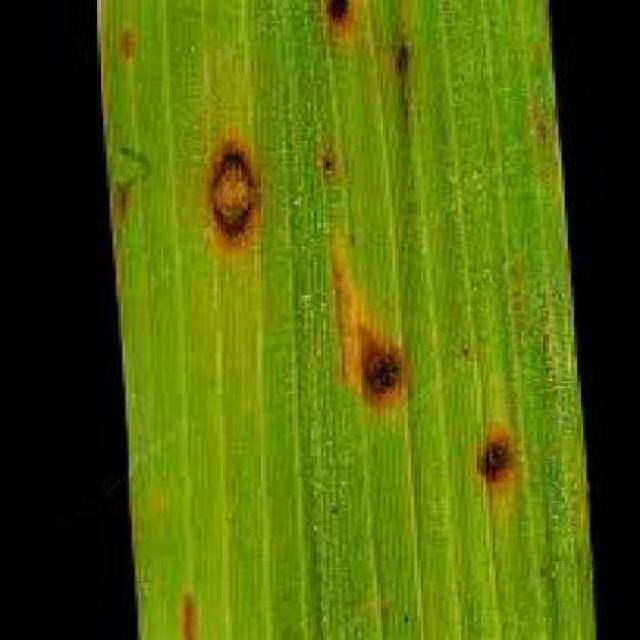Bacterial_Leaf_Blight: (194, 128, 281, 260)
Leaf_Blast: (315, 276, 420, 413), (452, 398, 528, 502), (392, 31, 428, 129), (166, 581, 219, 639), (107, 18, 147, 71), (307, 0, 359, 40), (105, 182, 146, 232), (525, 112, 558, 152), (318, 143, 340, 186)
